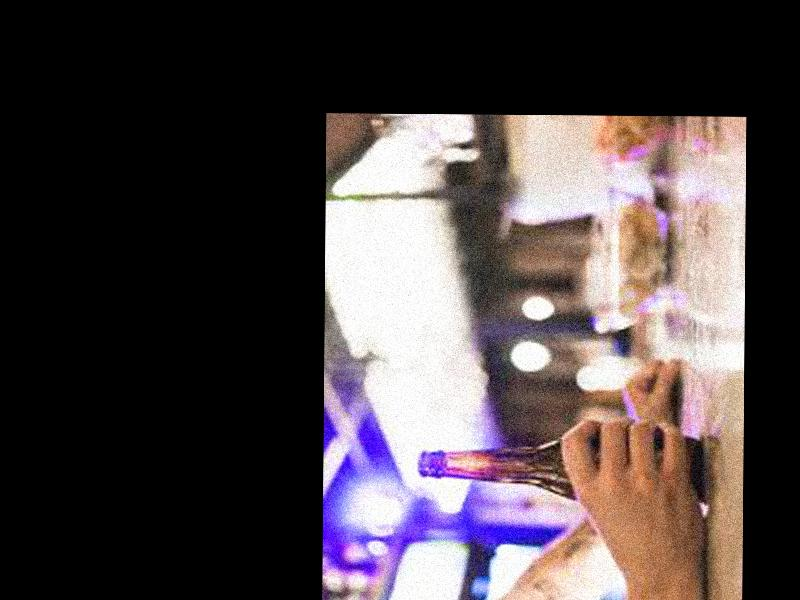Beer: (417, 435, 702, 500)
